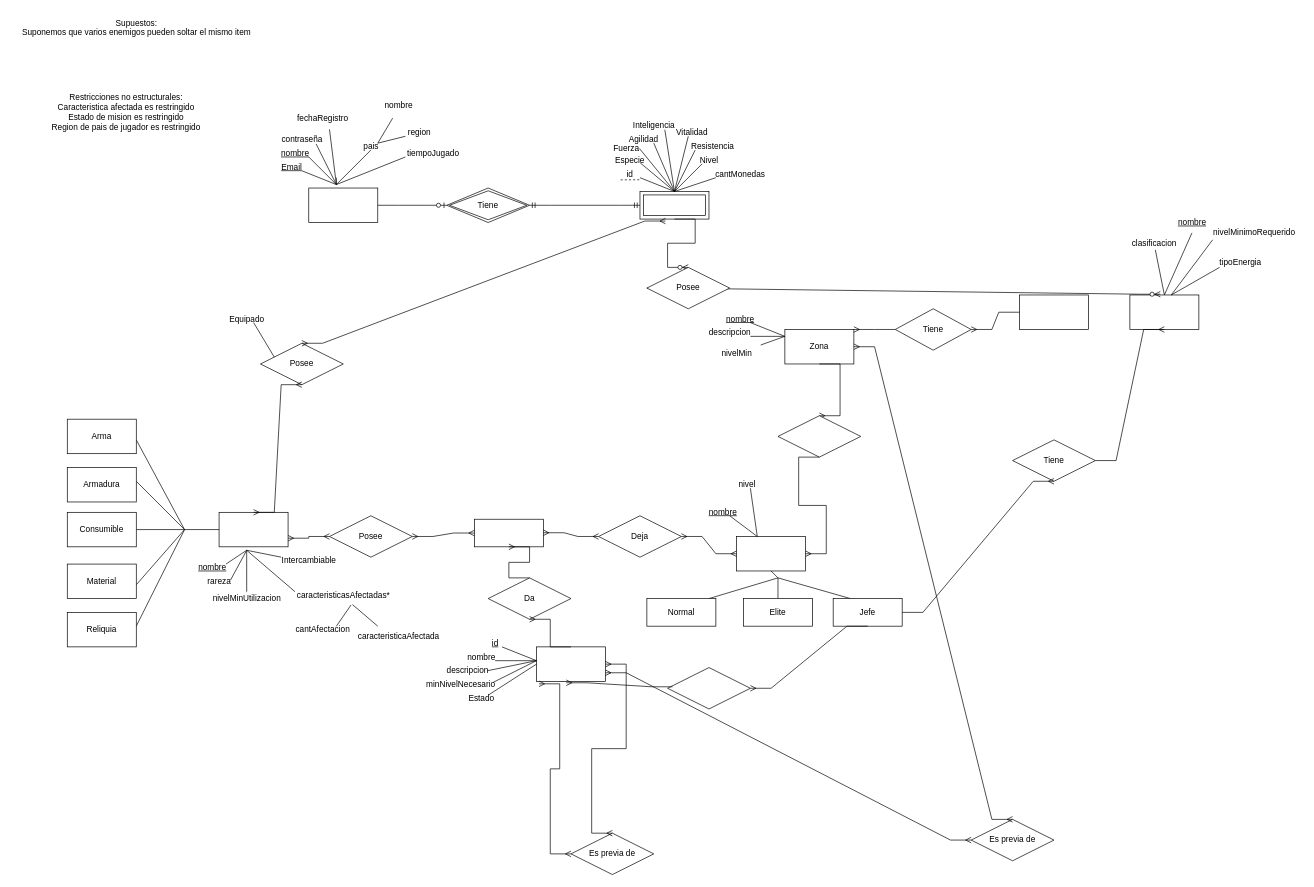
Image size: 1314x887. Some labels were removed from this diagram. Each missing label, with the box of its shape:
Aparece en: (667, 667, 750, 709)
Enemigo: (736, 536, 806, 571)
Habilidades: (1129, 294, 1199, 329)
Habita: (777, 415, 861, 457)
Item: (218, 512, 288, 547)
Jugador: (308, 187, 378, 223)
Mapa: (1019, 294, 1088, 329)
Misiones: (536, 646, 605, 681)
Personaje: (639, 191, 709, 219)
Recompensa: (474, 519, 543, 547)
